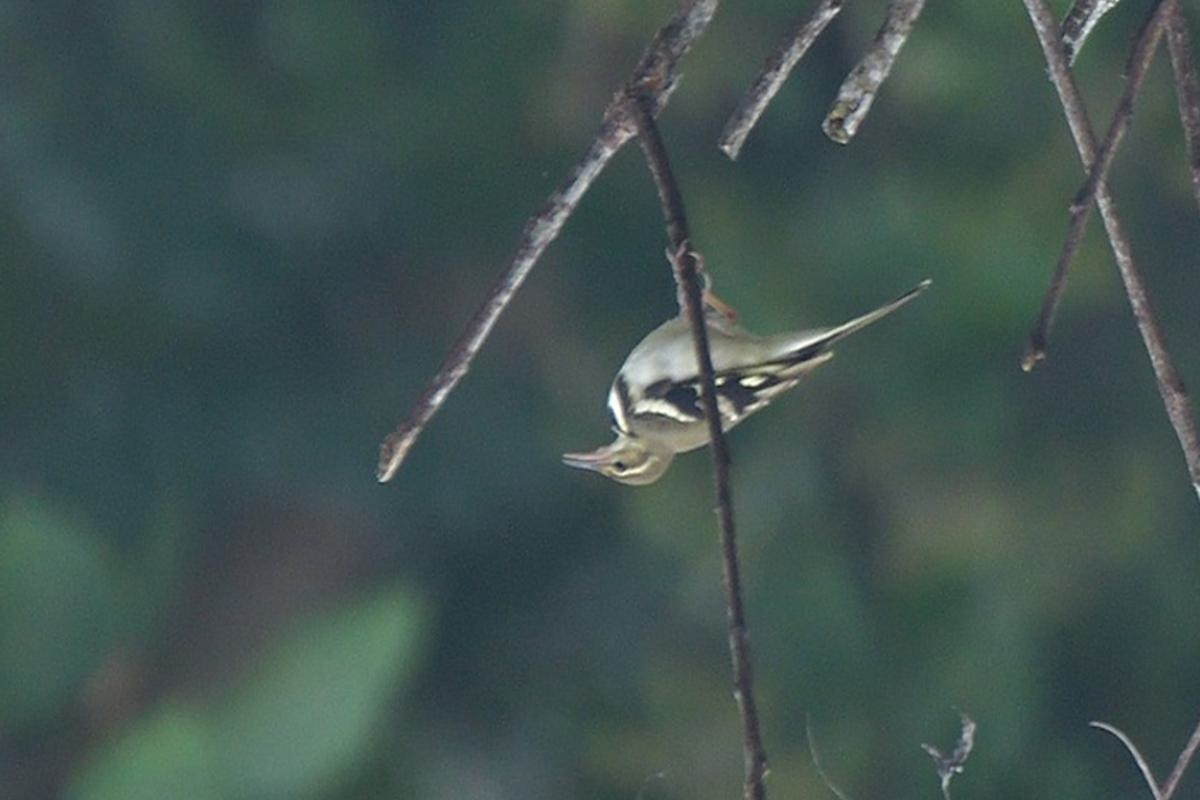wagtail: (558, 225, 898, 530)
